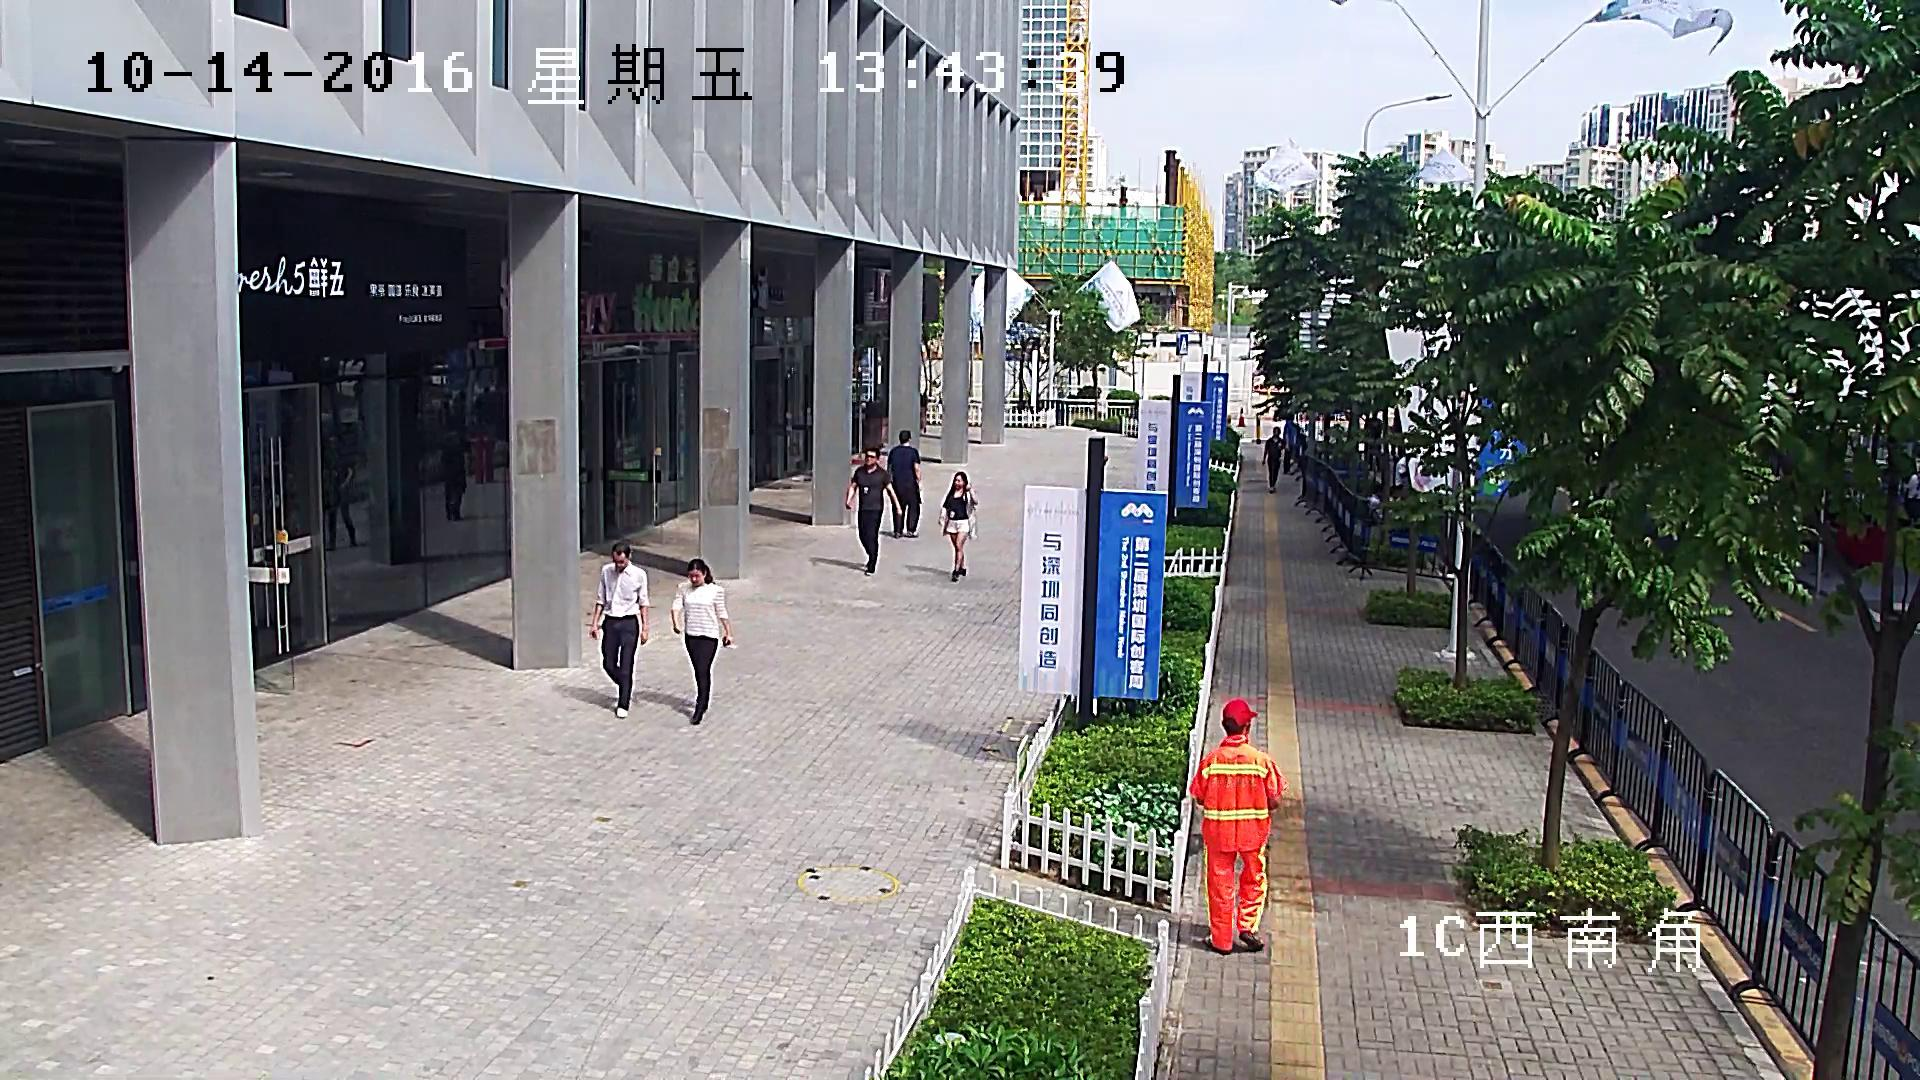person: (1188, 698, 1285, 954), (588, 541, 649, 718), (671, 558, 732, 724), (845, 446, 902, 575), (938, 471, 977, 581), (886, 429, 920, 539), (325, 453, 359, 549), (440, 448, 467, 521), (1261, 426, 1284, 493), (1283, 418, 1297, 474)
